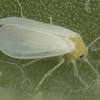Tobacco Whitefly: (1, 10, 82, 78)
